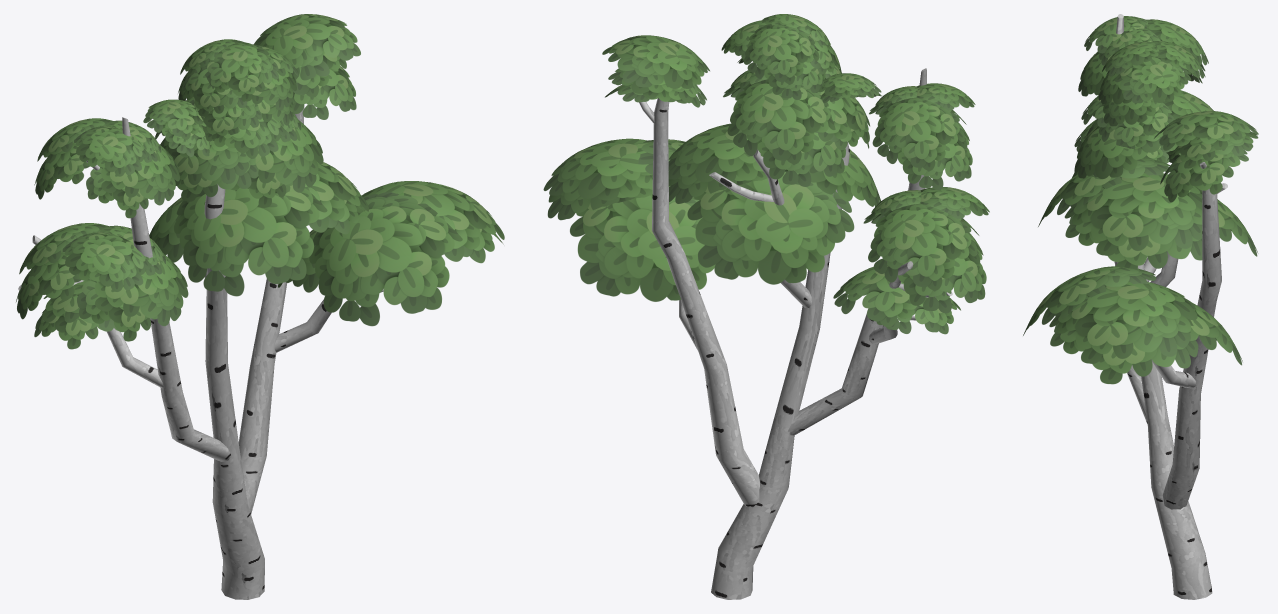
The model's file is Birch_3.glb.
The picture shows the model from 3 angles, left to right: view 1: azimuth 30°, elevation 25°; view 2: azimuth 150°, elevation 25°; view 3: azimuth 270°, elevation 25°; orthographic projection. The views are drawn at different scales.
Parts seen in each view (by area): view 1: Birch_3_Leaves, Birch_3; view 2: Birch_3_Leaves, Birch_3; view 3: Birch_3_Leaves, Birch_3.
Part boxes in pixels (bbox=[...]): Birch_3_Leaves: bbox=[16, 14, 504, 349]; Birch_3: bbox=[18, 107, 383, 599]; Birch_3_Leaves: bbox=[543, 14, 989, 334]; Birch_3: bbox=[639, 68, 956, 599]; Birch_3_Leaves: bbox=[1023, 16, 1258, 384]; Birch_3: bbox=[1114, 14, 1227, 599].
Size of the model in its own units: 8.62 by 10.25 by 4.22.
2 materials, 2 textured.
